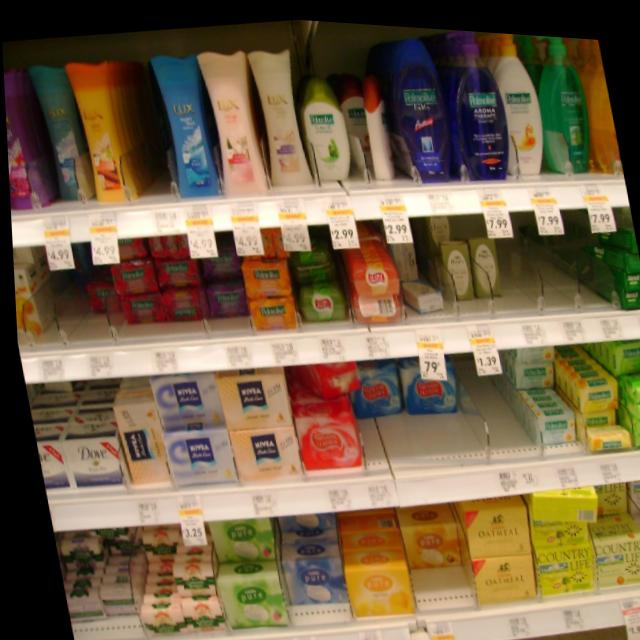q100: (290, 63, 364, 194)
q73: (57, 41, 143, 217)
